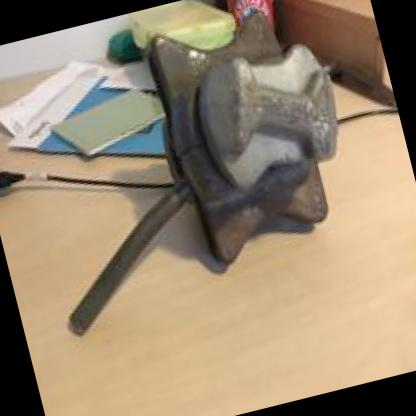Twistlock: (0, 0, 390, 356)
